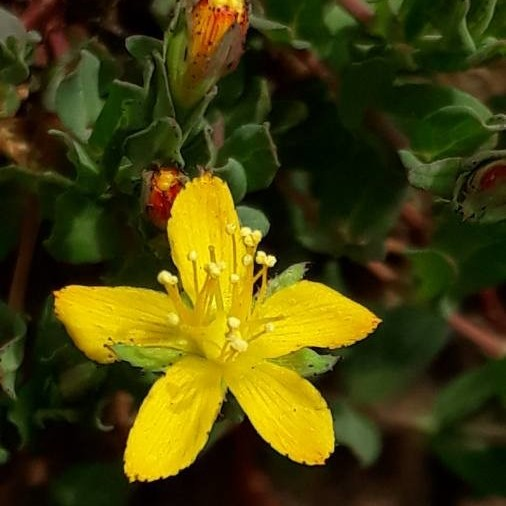obstacle: (68, 172, 401, 478)
